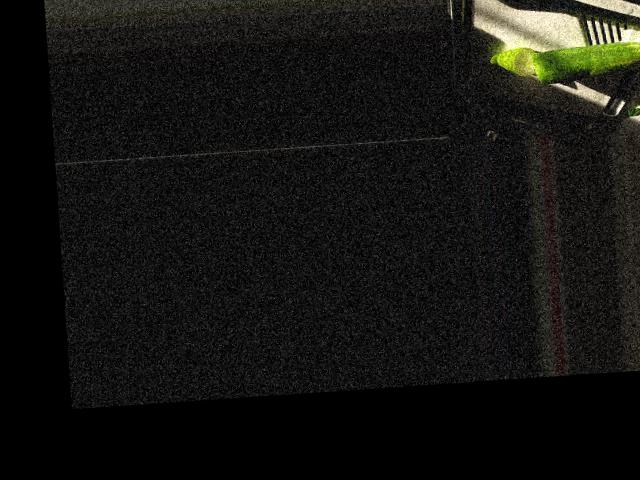cucumber: (529, 39, 640, 84)
